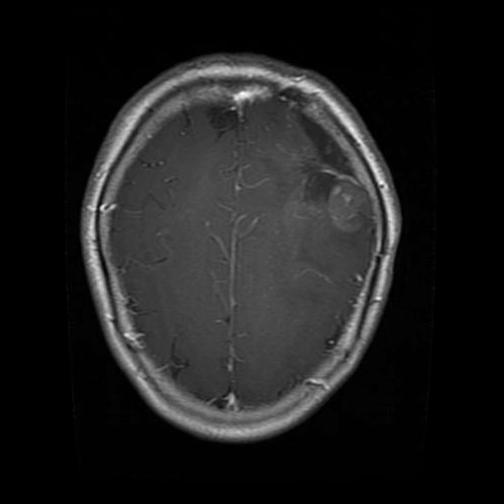Tumour-Glioma: (297, 118, 371, 224)
